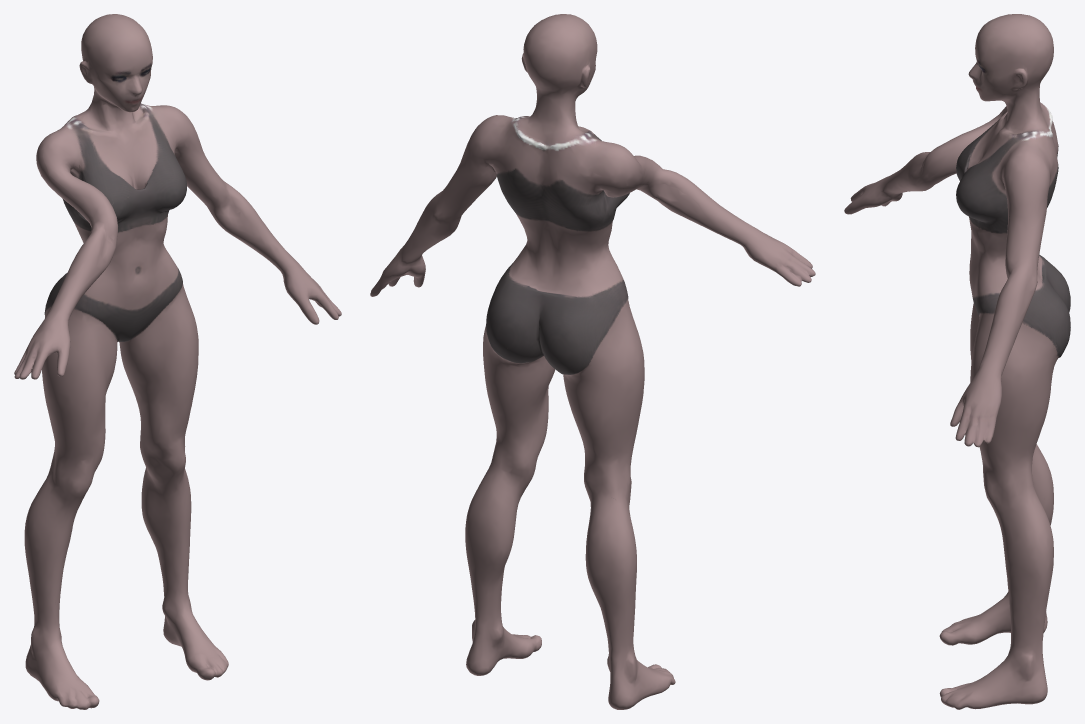
File: 15-UpperArmL-60-child60-twist0-baseline.glb
The picture shows the model from 3 angles, left to right: view 1: azimuth 30°, elevation 25°; view 2: azimuth 150°, elevation 25°; view 3: azimuth 270°, elevation 25°; orthographic projection. The views are drawn at different scales.
Visible parts, largest first — view 1: baseline; view 2: baseline; view 3: baseline.
Boxes of the visible parts, x1,y1,x2,y2 form: baseline: (14,14,341,709); baseline: (370,14,815,709); baseline: (844,14,1070,709).
Size of the model in its own units: 0.6038 by 1 by 0.3143.
1 material, 1 textured.
